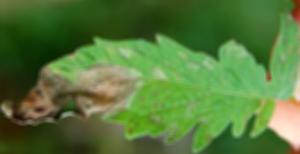Tomato leaf late blight: (0, 25, 296, 154)
